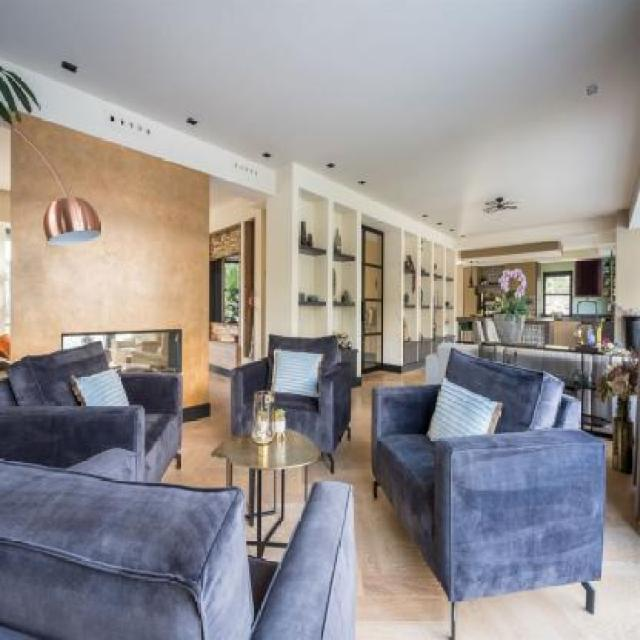floor: (332, 365, 449, 640), (163, 374, 236, 490)
